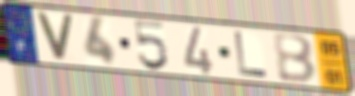4: (81, 14, 119, 70), (182, 24, 215, 76)
5: (133, 18, 171, 73)
B: (271, 33, 319, 86)
L: (232, 30, 270, 80)
V: (33, 10, 76, 64)
